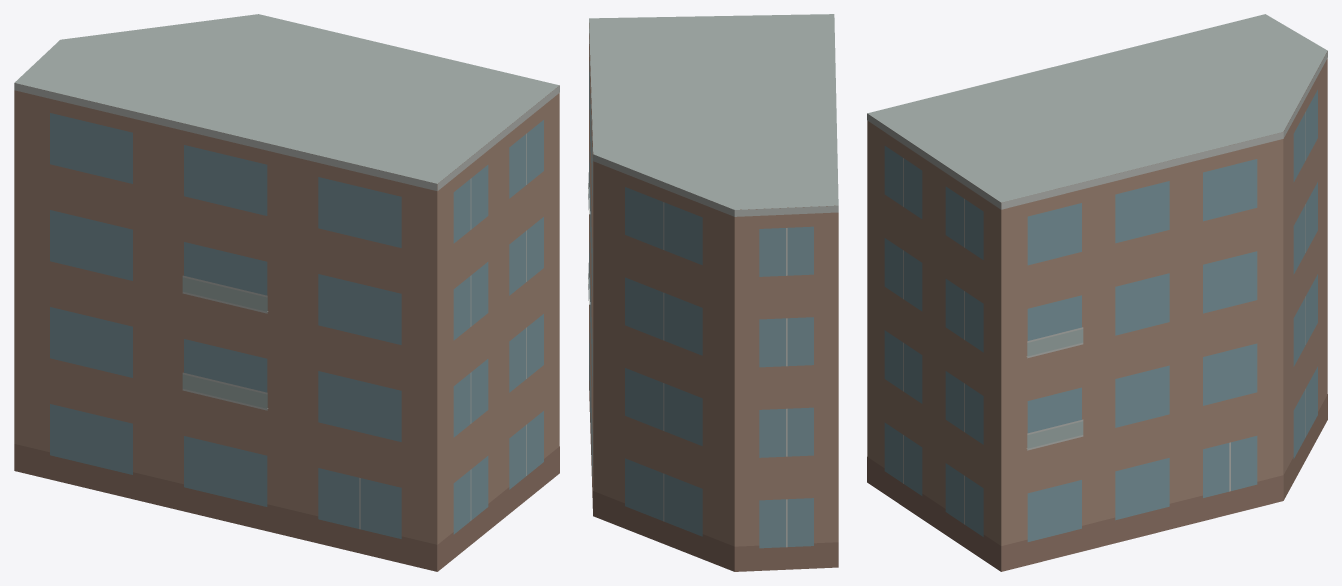
Rendered from survey-upis-32834730.glb.
The picture shows the model from 3 angles, left to right: view 1: azimuth 30°, elevation 25°; view 2: azimuth 150°, elevation 25°; view 3: azimuth 270°, elevation 25°; orthographic projection. The views are drawn at different scales.
Parts seen in each view (by area): view 1: survey-upis-32834730.tmp; view 2: survey-upis-32834730.tmp; view 3: survey-upis-32834730.tmp.
Part boxes in pixels (x1,y1,x2,y2): survey-upis-32834730.tmp: (14,14,559,571); survey-upis-32834730.tmp: (588,14,838,571); survey-upis-32834730.tmp: (867,14,1327,571).
Bounding box in the file's own units: 14.04 × 12.8 × 14.48.
